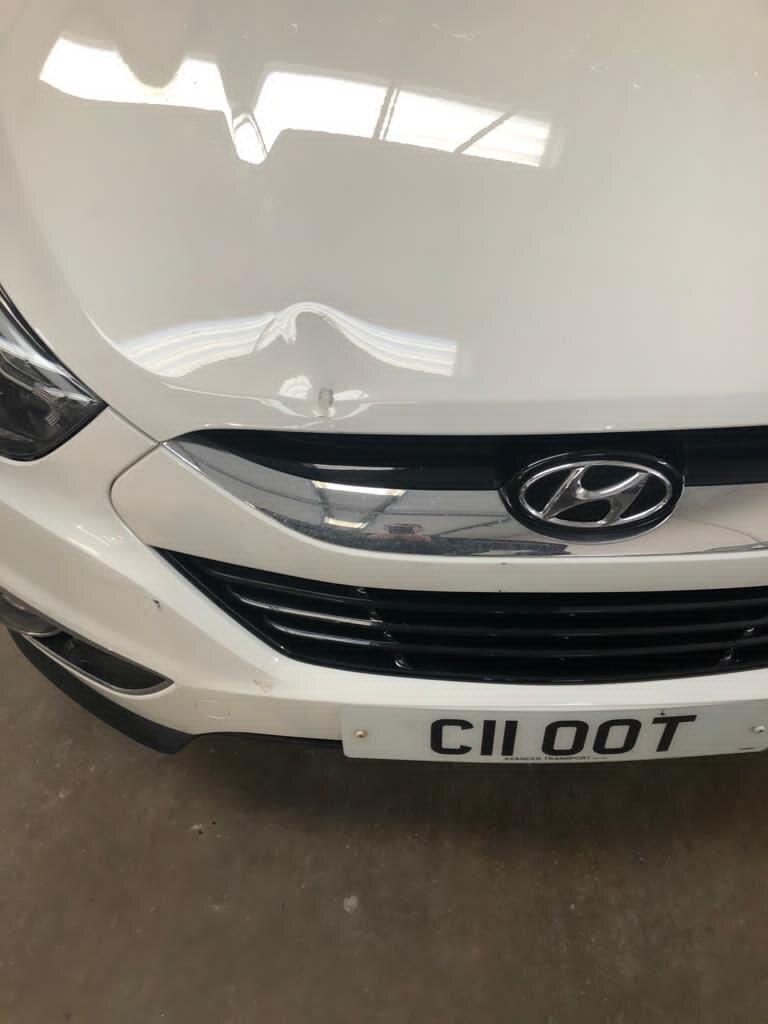bonnet-dent: (0, 1, 767, 490)
